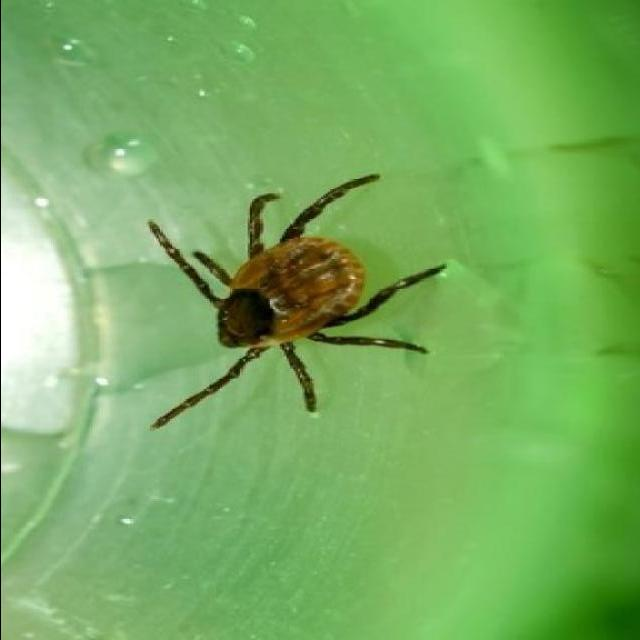Rhipicephalus Sanguineus-F: (146, 175, 441, 430)
